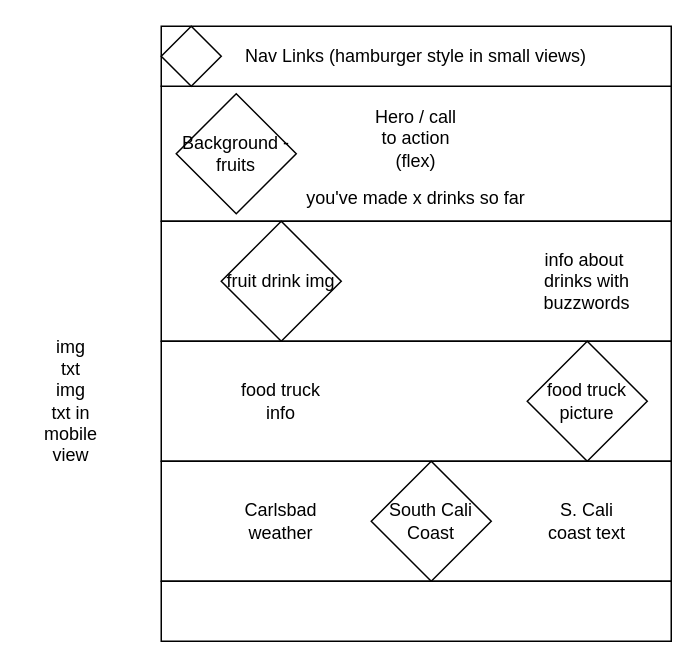
The diagram is 698 pixels wide and 668 high, and some of its shapes have lost their labels. The centre of each missing label's shape, as x and y in pixels:
Footer - about us, last updated, project & dev info, social links on top: (x=415, y=610)
logo: (x=190, y=55)
